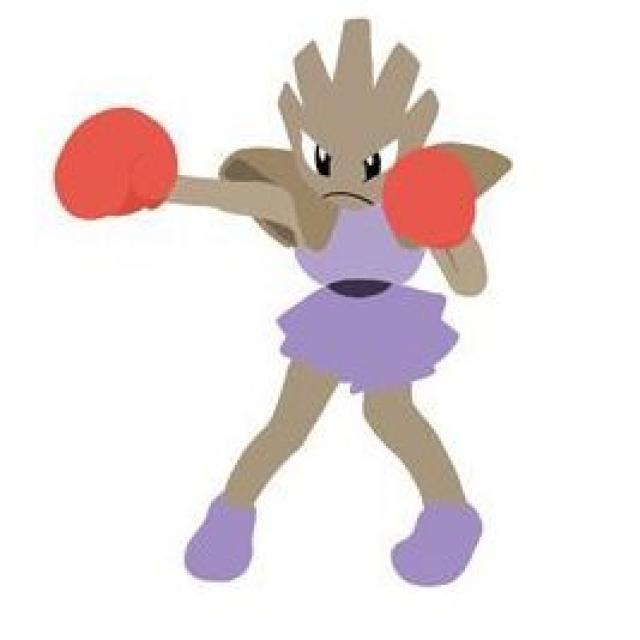Hitmonchan: (127, 63, 536, 534)
